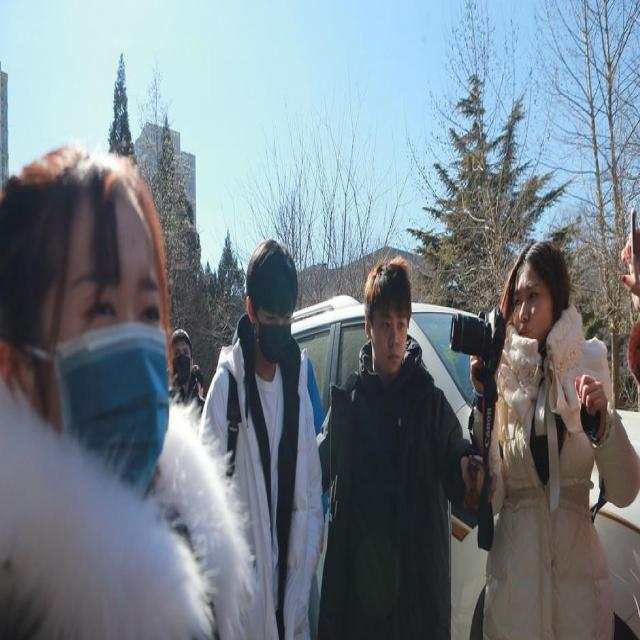mask: (46, 215, 169, 505), (259, 299, 292, 359)
nomask: (512, 264, 550, 344), (373, 307, 407, 371)
